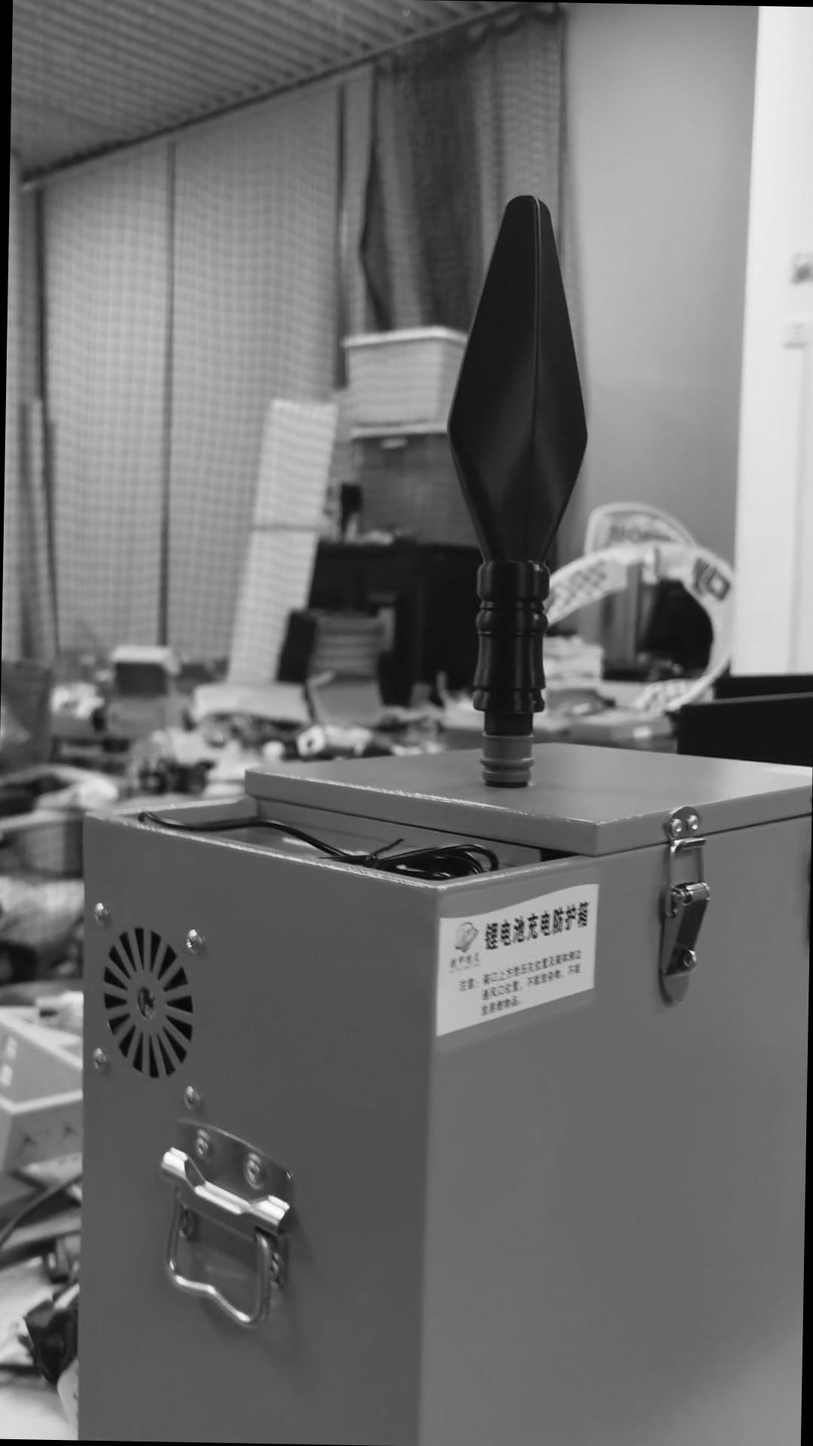base: (482, 731, 533, 790)
